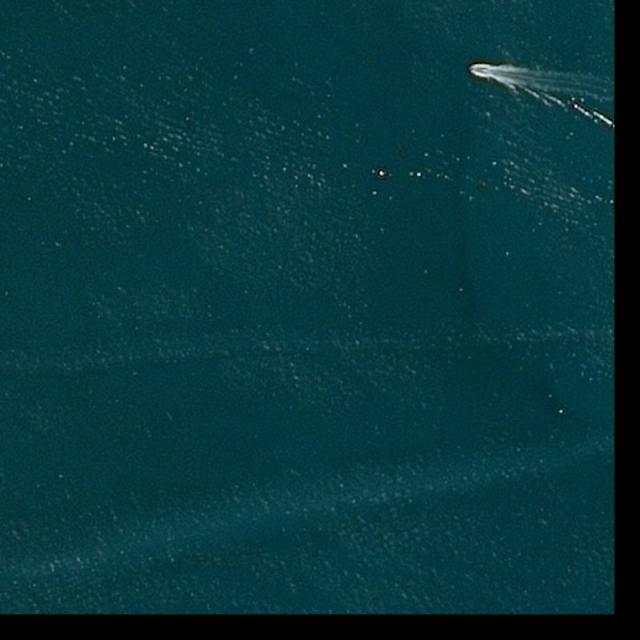ship: (468, 63, 482, 76)
